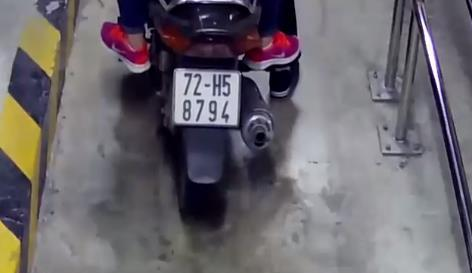lisence: (173, 67, 241, 128)
